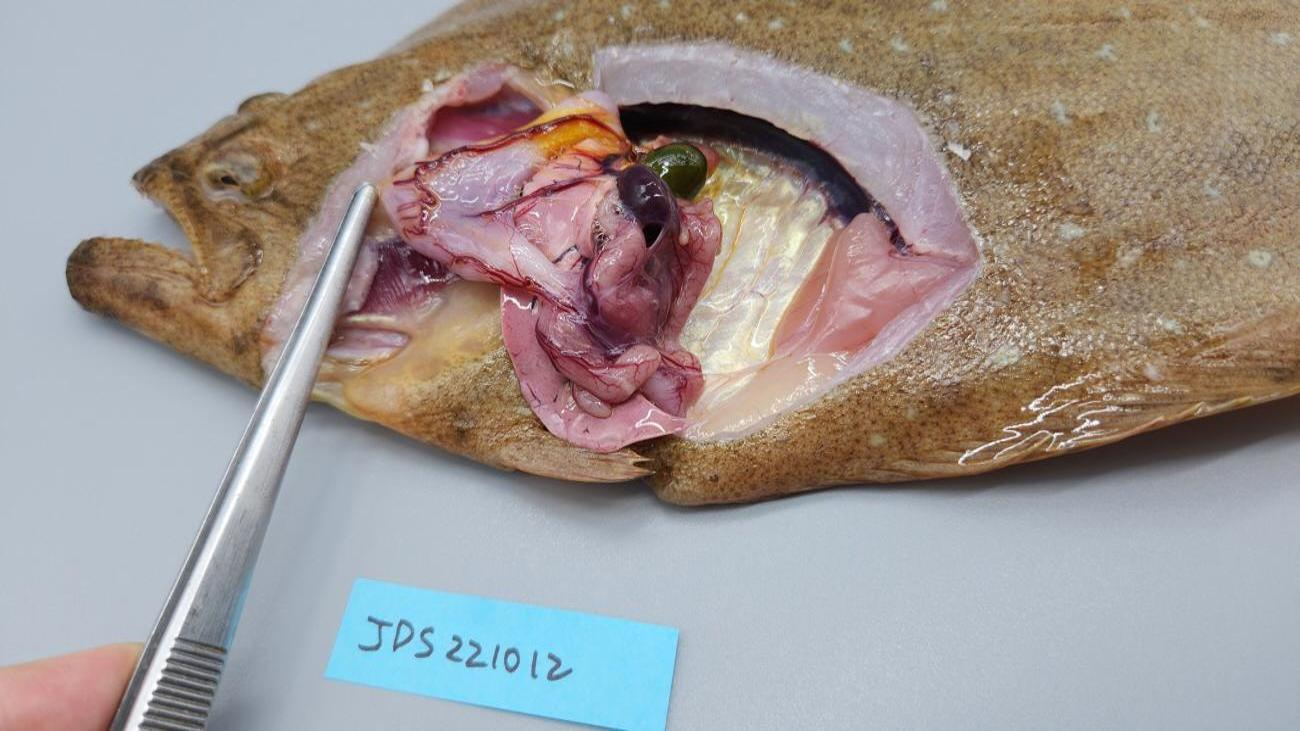POINN: (535, 187, 723, 417)
POSPN: (616, 164, 676, 226)
